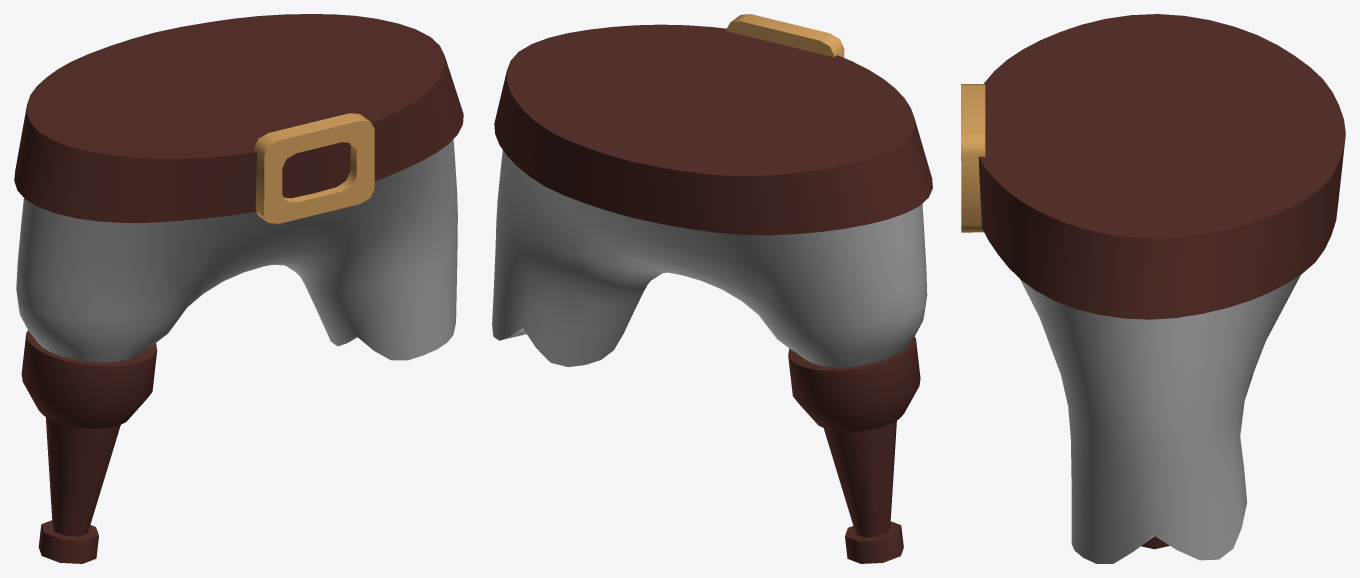
The model's file is 12海盗裤.fbx.
The picture shows the model from 3 angles, left to right: view 1: azimuth 30°, elevation 25°; view 2: azimuth 150°, elevation 25°; view 3: azimuth 270°, elevation 25°; orthographic projection. The views are drawn at different scales.
Visible parts, largest first — view 1: 12海盗裤; view 2: 12海盗裤; view 3: 12海盗裤.
Part boxes in pixels (<box>): 12海盗裤: <box>14,14,463,563</box>; 12海盗裤: <box>492,14,932,563</box>; 12海盗裤: <box>961,14,1345,563</box>.
Size of the model in its own units: 0.6153 by 0.6095 by 0.4066.
